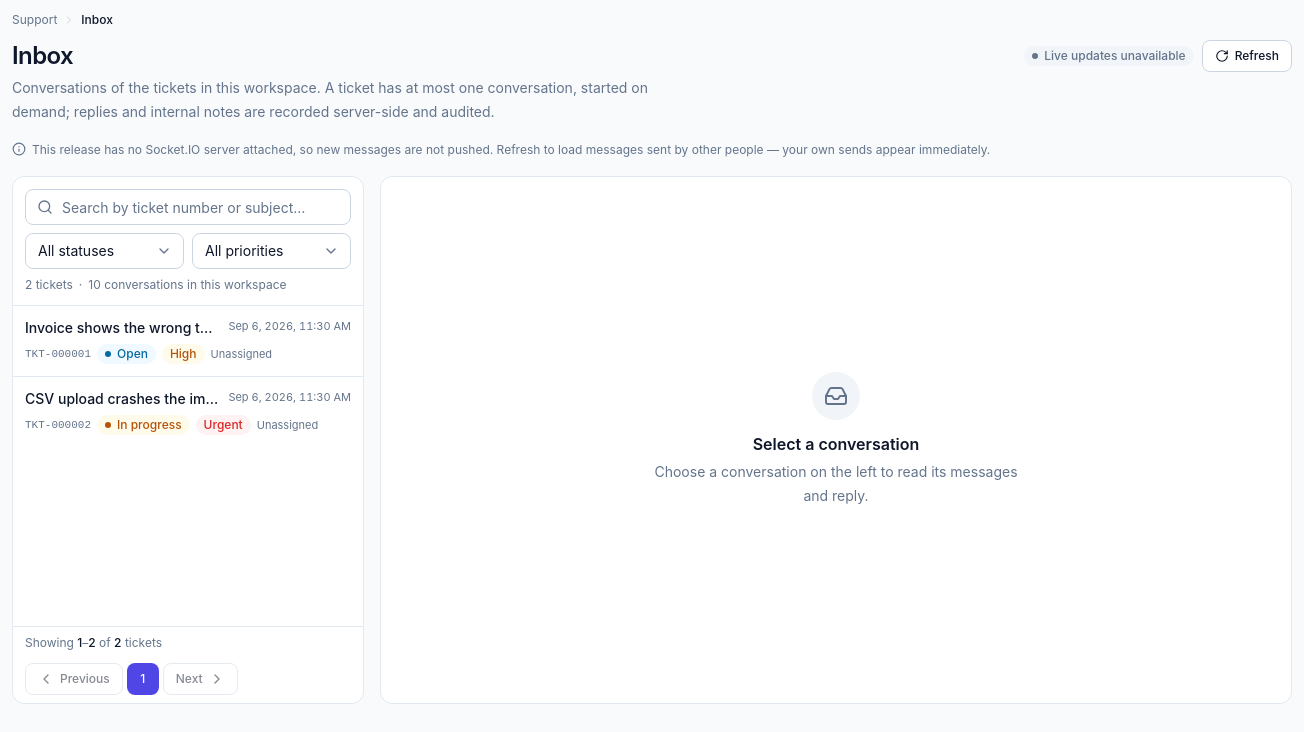
Test: InboxPage › starts the conversation when a ticket has none yet
Click the button "Invoice shows the wrong total".
click(188, 341)  # box [13,306,363,376]
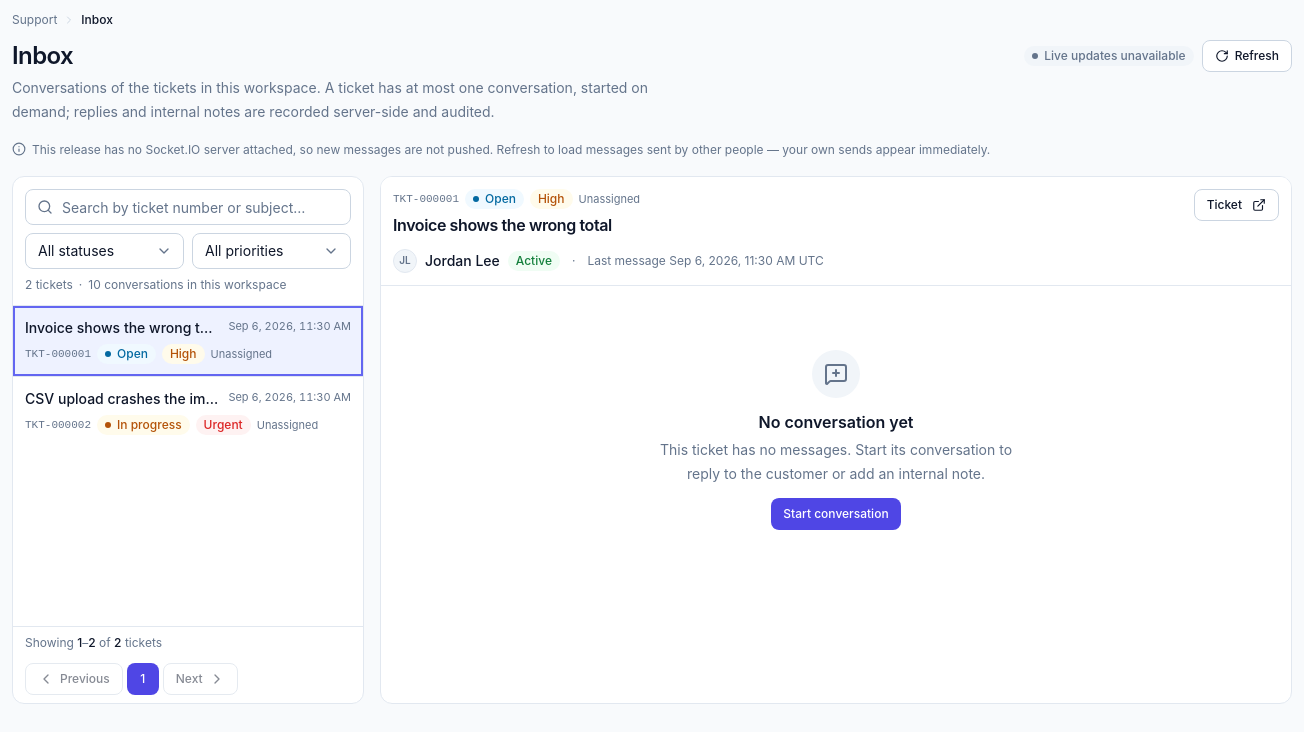
Check: the text "10 conversations in this workspace" is shown, box [88,277,286,293]
Check: the heading "No conversation yet" is shown, box [758,412,914,432]
Click the button "Start conversation".
click(836, 514)  # box [771,498,901,530]
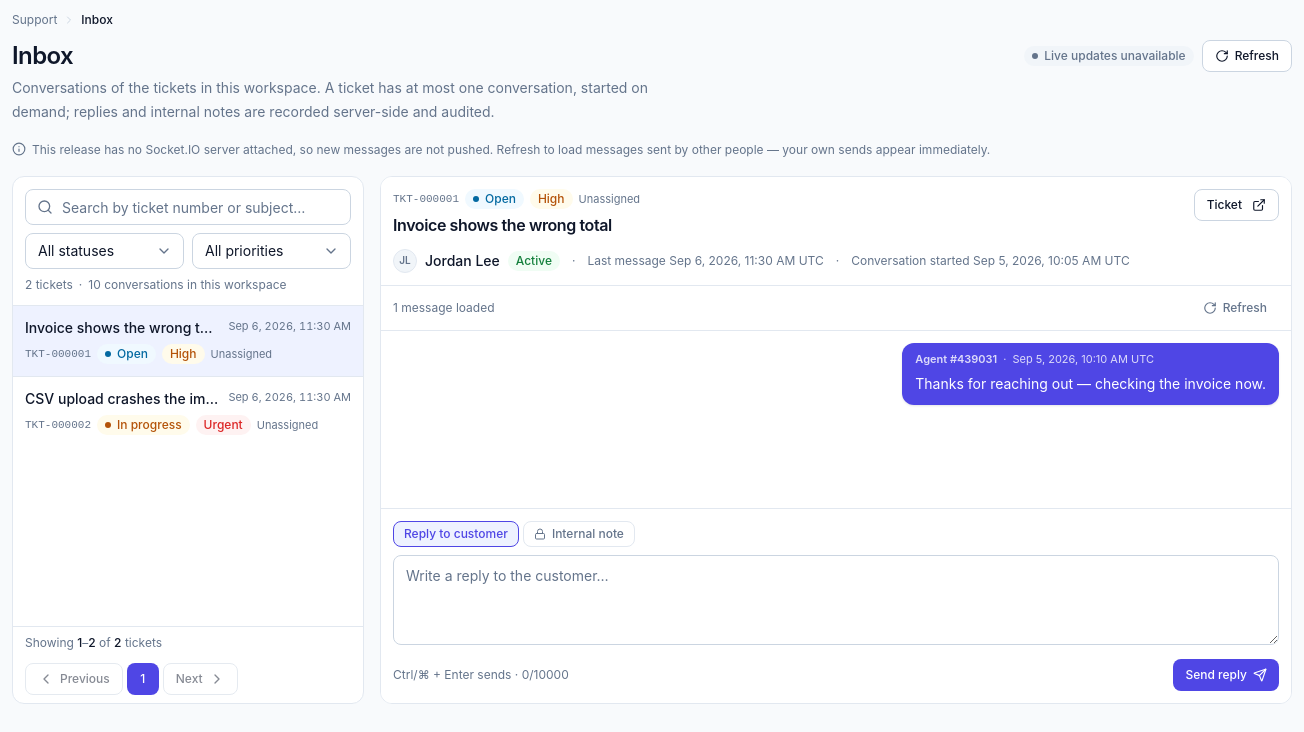
Check: the text box is shown, box [393,555,1279,645]
